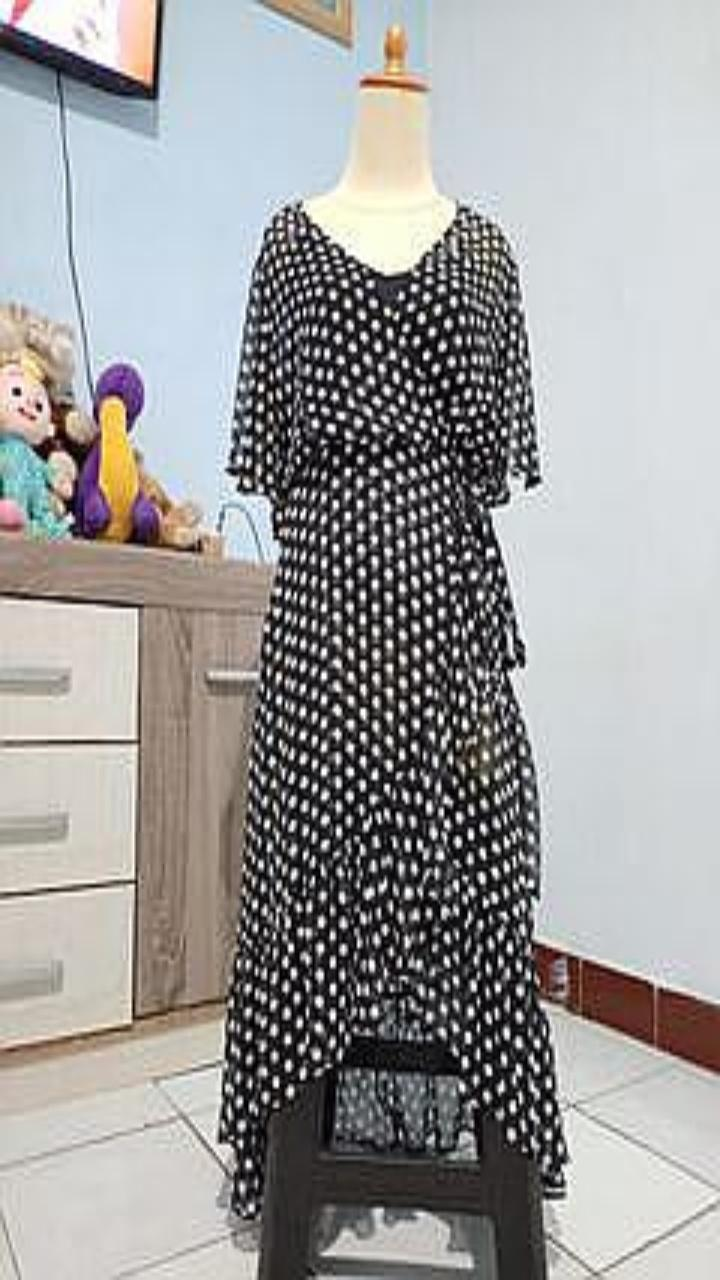Dresses: (218, 201, 567, 1217)
